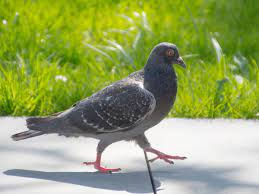Walking: (3, 18, 214, 189)
